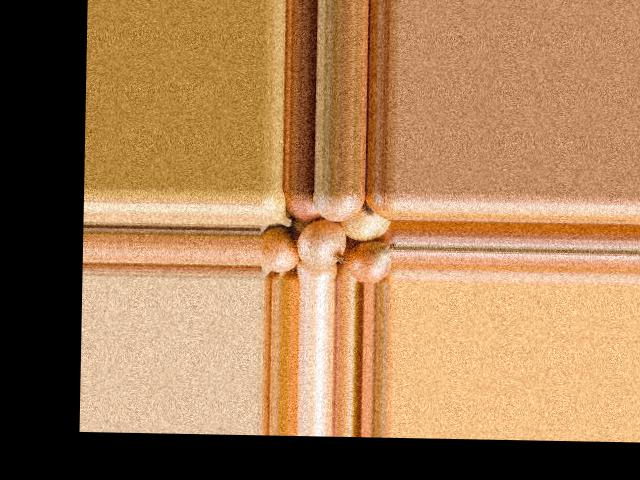onion: (295, 258, 340, 281)
